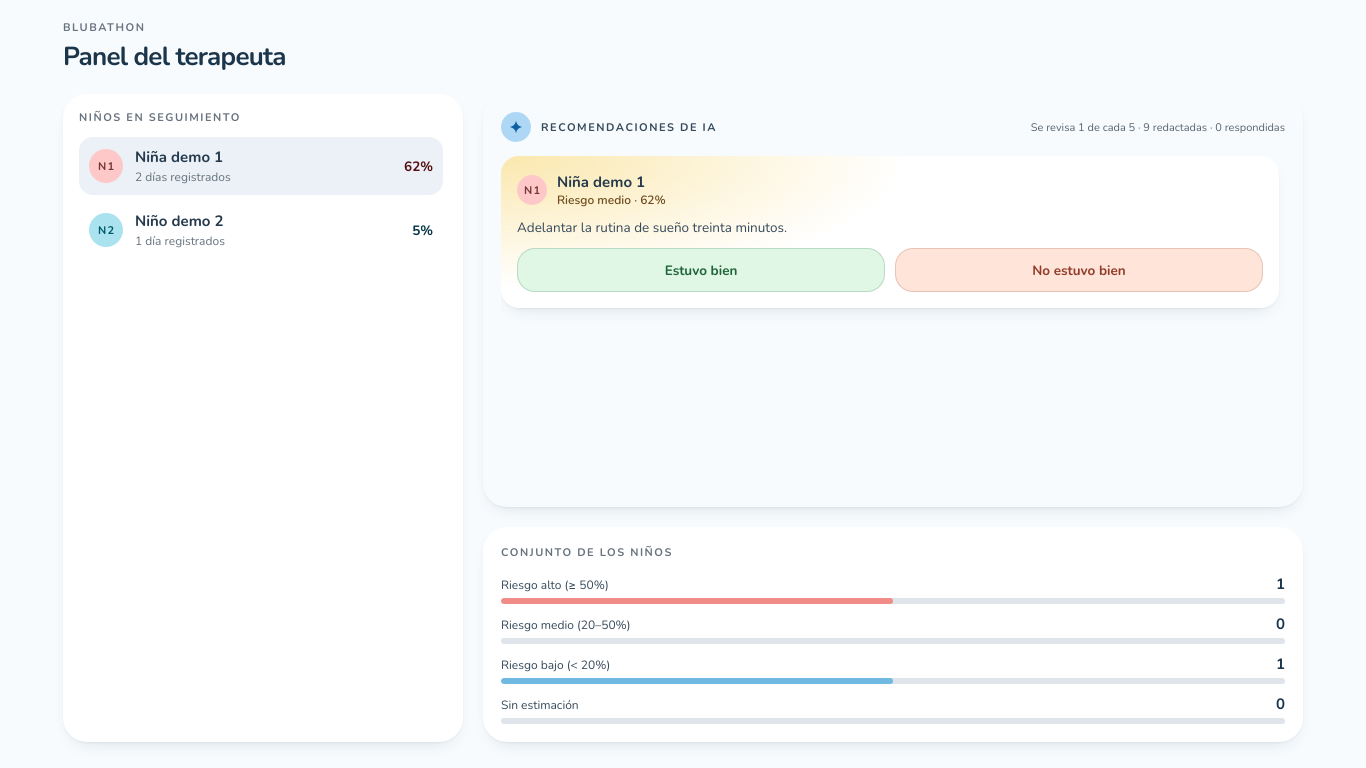
Test: cola de revisión › manda la decisión y refleja el veredicto que devuelve el servidor
Click the button with class "tarjeta__boton--bien" at point(701, 270), box [517, 248, 885, 292]
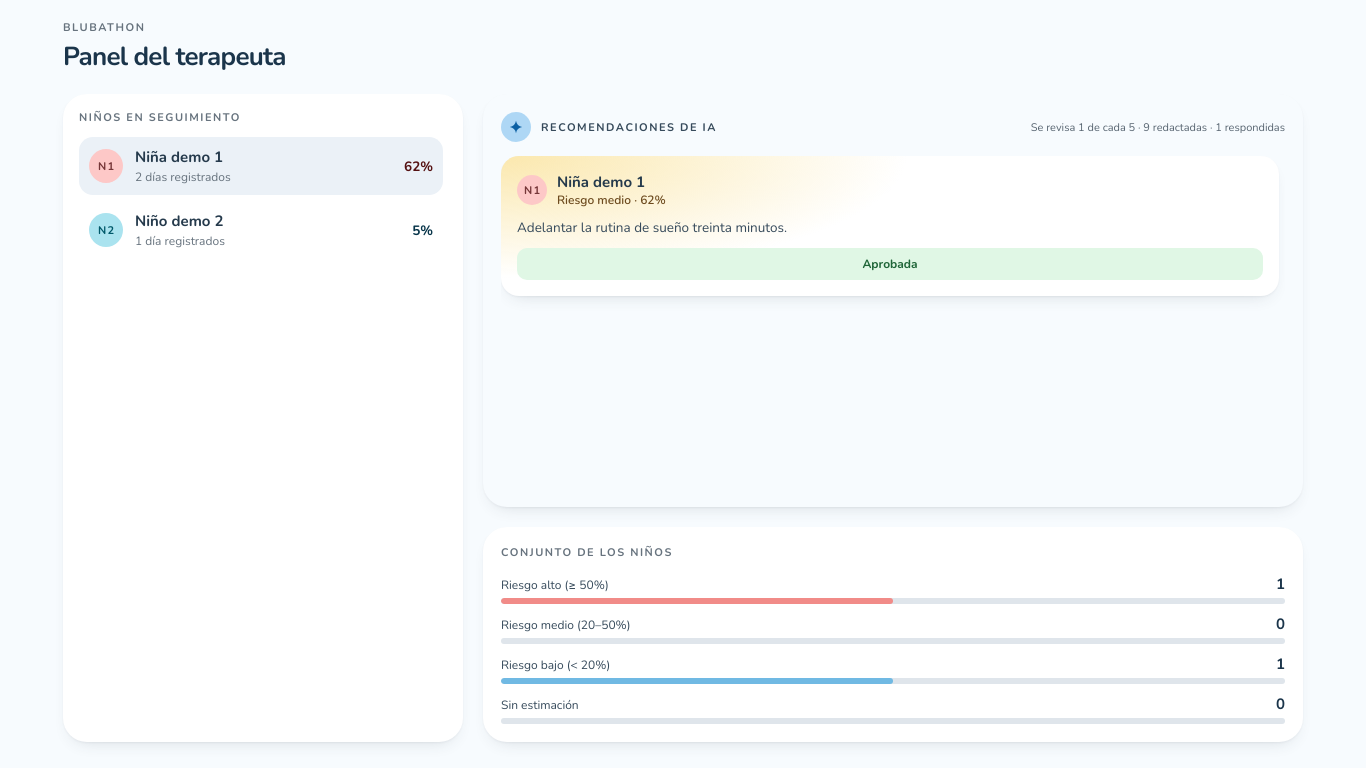
Expected: the message "Aprobada" is shown, [517, 248, 1263, 280]
